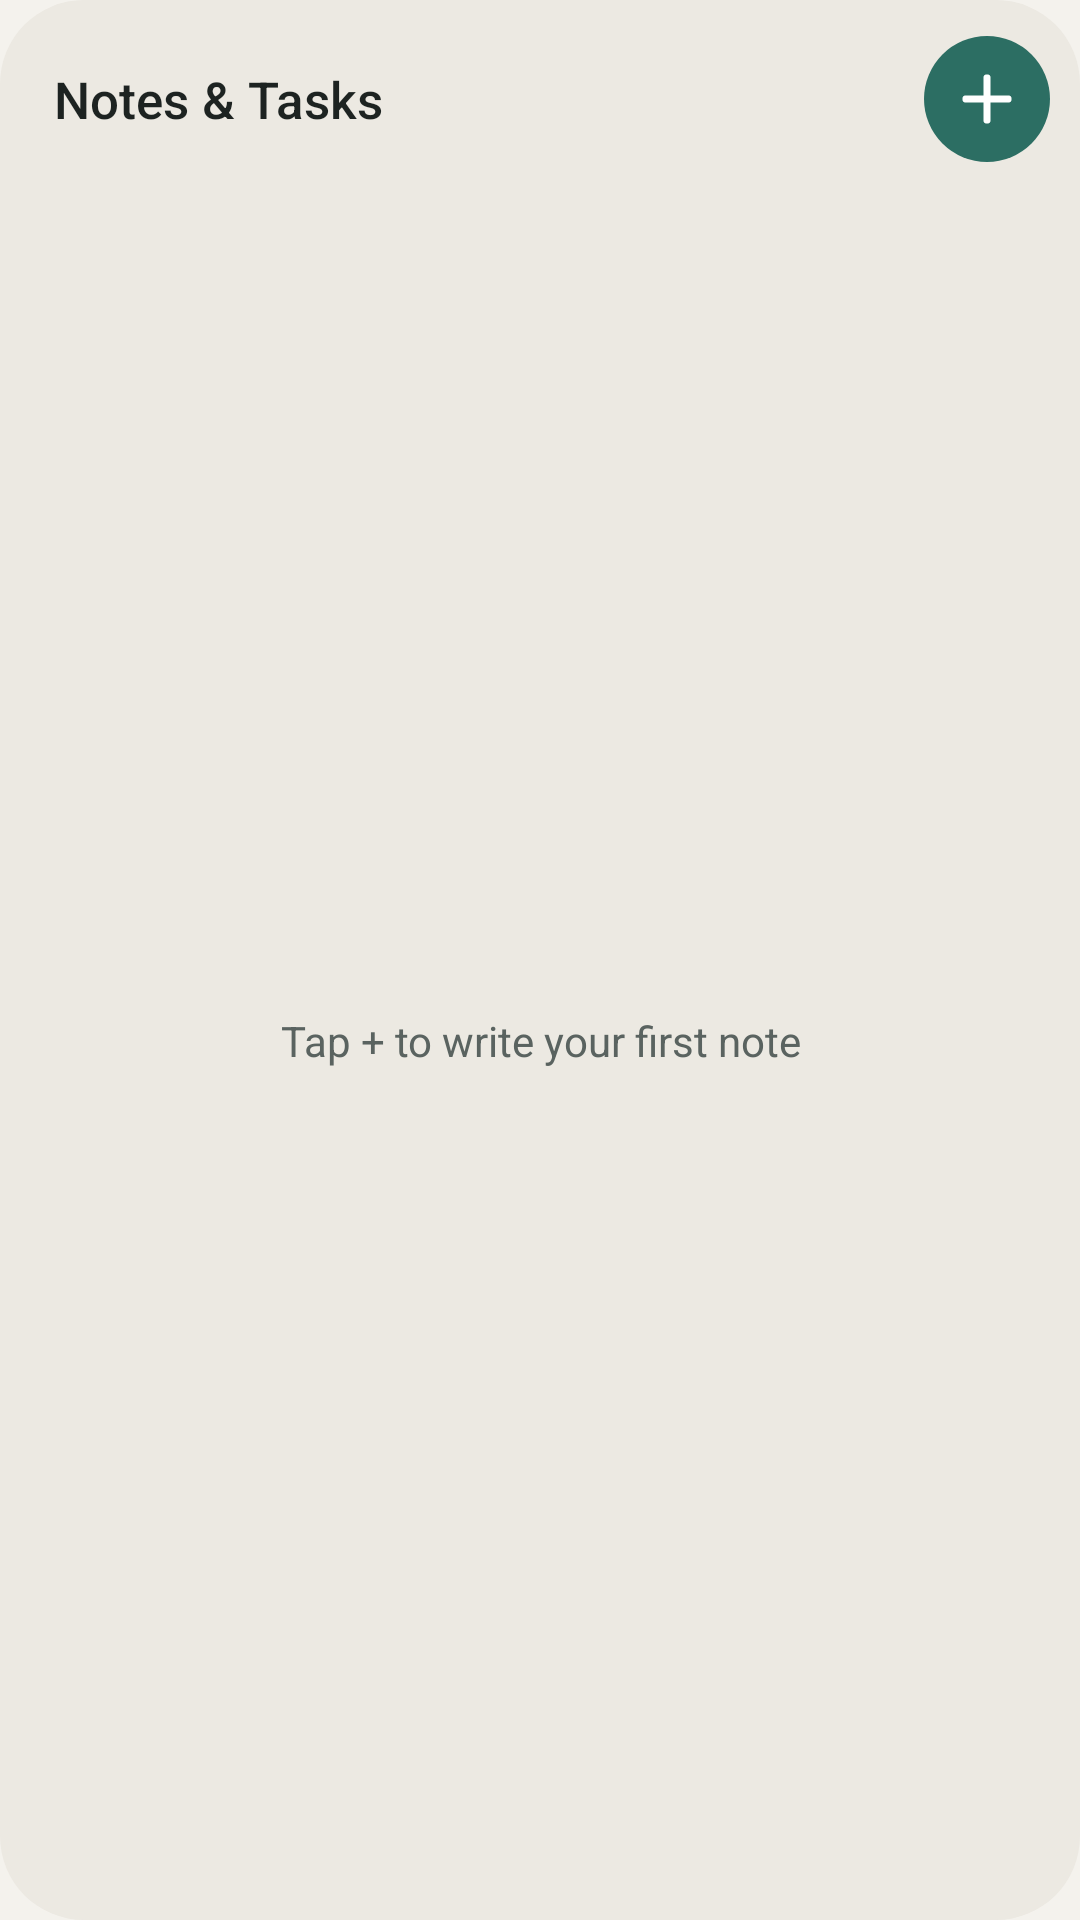

Screen size 1080 × 1920. Icon name, then its box in pixels as (x1, y1, x2, y2):
Add a note or task: (924, 36, 1050, 162)
